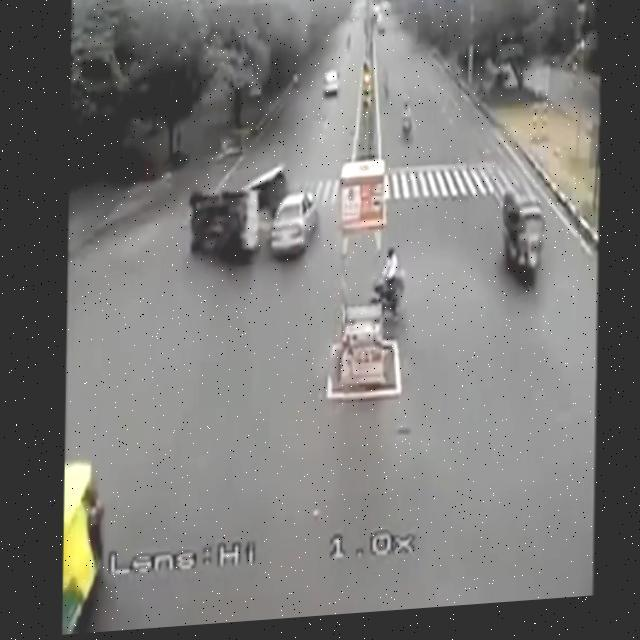multiple_accident: (186, 167, 341, 270)
normal: (480, 172, 555, 303)
